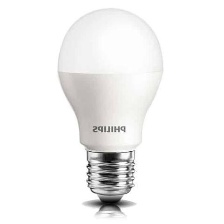light_bulb: (50, 5, 169, 210)
